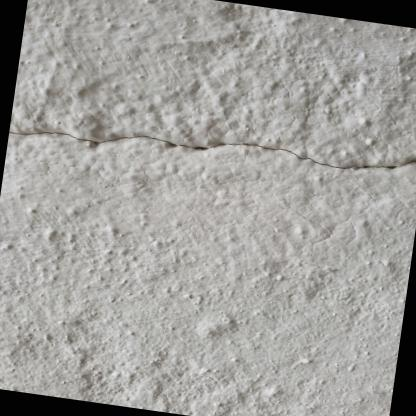crack: (9, 130, 416, 168), (9, 131, 416, 168)
